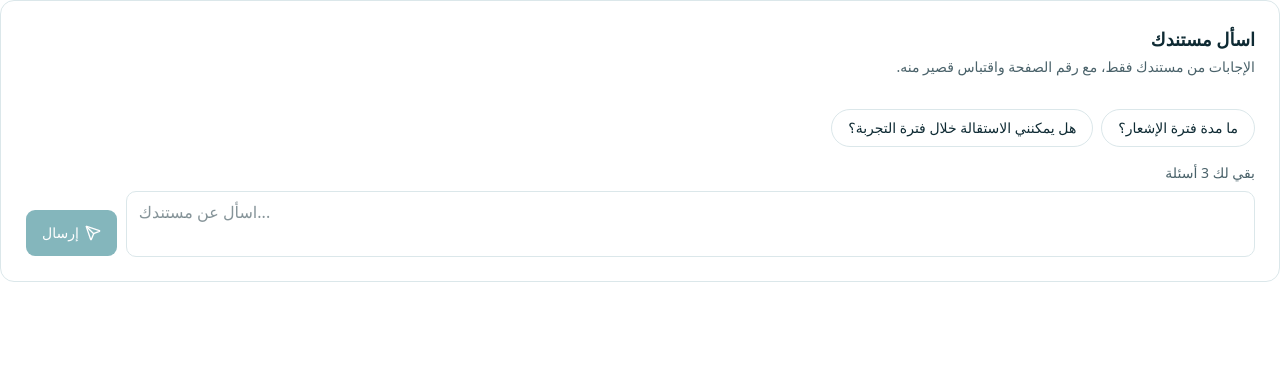
says clearly when the answer is not in the document
Type "هل يوجد بدل طعام؟" into the text box named "سؤالك" at (690, 224), box [126,191,1255,257]
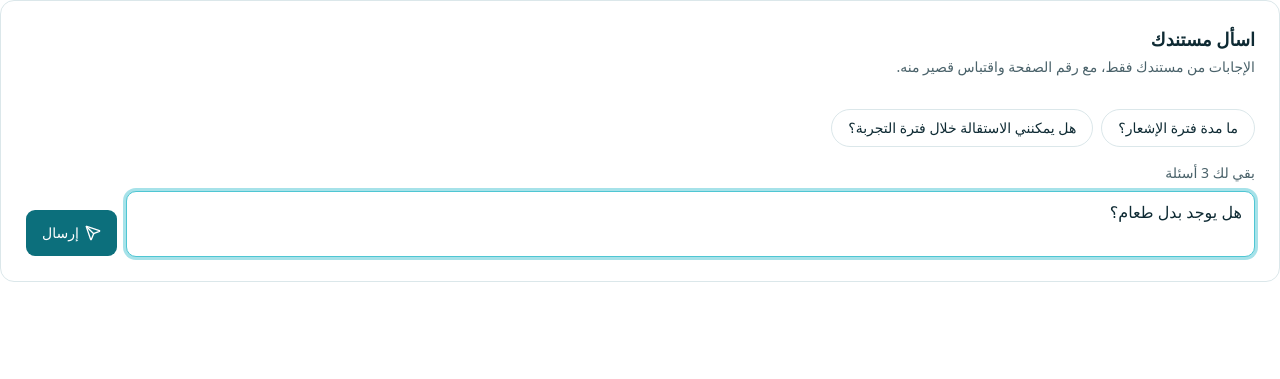
Click the button "إرسال" at (71, 233), box [25,209,118,257]
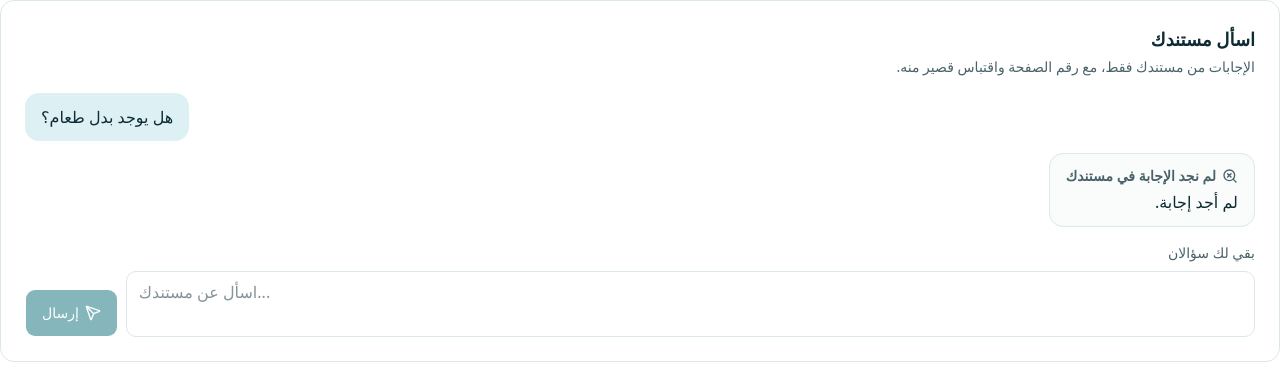
Expected: the text "لم نجد الإجابة في مستندك" is shown, [1066,166,1238,186]
